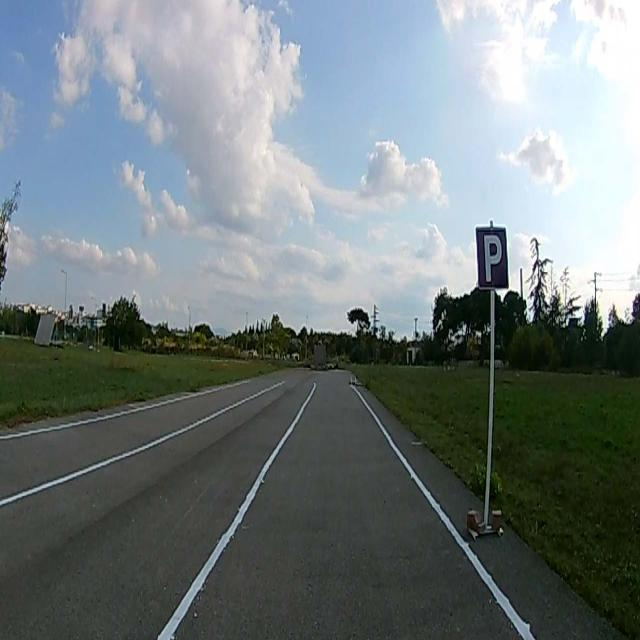park: (475, 229, 508, 287)
